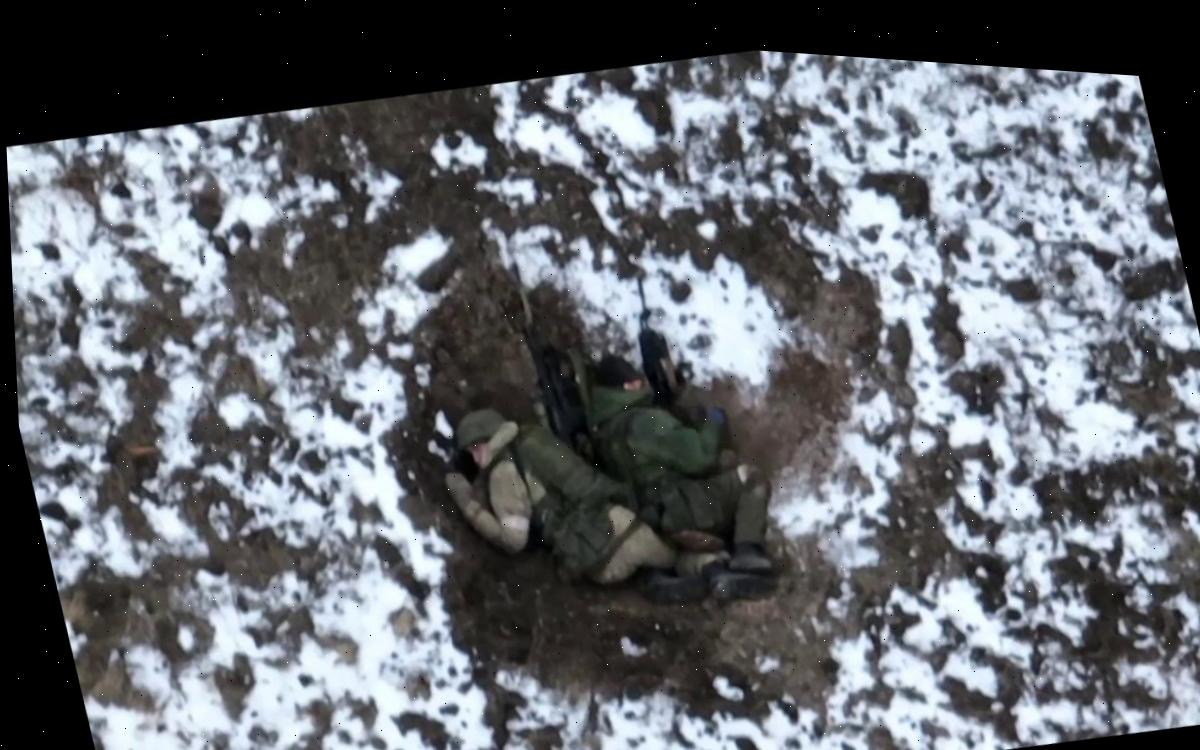person: (424, 358, 780, 657), (537, 248, 784, 610)
